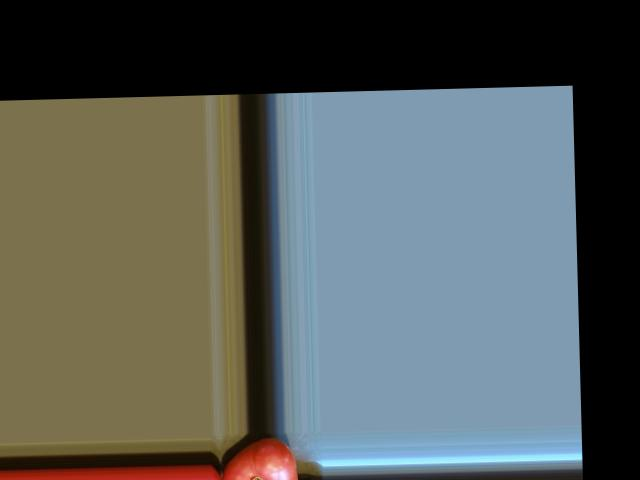tomato: (221, 437, 298, 480)
